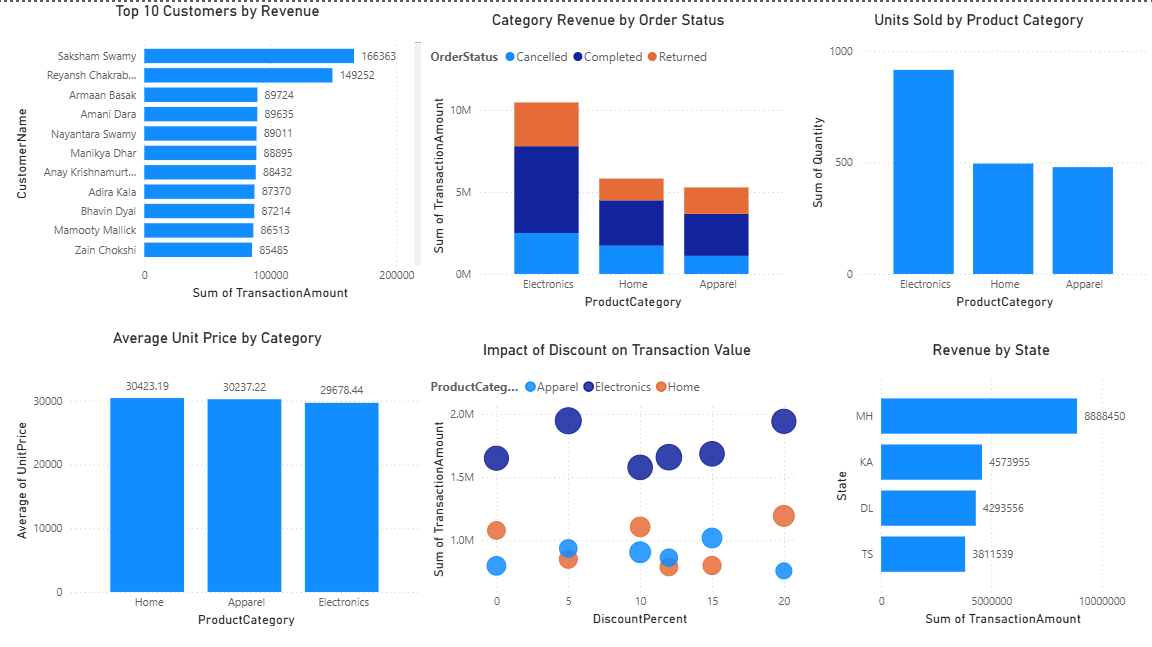

What the dashboard file says about the page in this screenshot:
{"tool":"powerbi","page":{"name":"Customer & Product Analysis","canvas":[1280,720],"ordinal":1},"visuals":[{"type":"clusteredBarChart","title":"Top 10 Customers by Revenue","fields":{"Category":["Sheet_1___Retail_Transactions.CustomerName"],"Y":["Sum(Sheet_1___Retail_Transactions.TransactionAmount)"]},"box":[9.7,0,463.1,335.2],"z":0},{"type":"columnChart","title":"Category Revenue by Order Status","fields":{"Category":["Sheet_1___Retail_Transactions.ProductCategory"],"Y":["Sum(Sheet_1___Retail_Transactions.TransactionAmount)"],"Series":["Sheet_1___Retail_Transactions.OrderStatus"]},"box":[472.8,9.7,404.8,335.2],"z":1},{"type":"clusteredColumnChart","title":"Units Sold by Product Category","fields":{"Category":["Sheet_1___Retail_Transactions.ProductCategory"],"Y":["Sum(Sheet_1___Retail_Transactions.Quantity)"]},"box":[895.4,9.7,385.4,335.2],"z":2},{"type":"columnChart","title":"Average Unit Price by Category","fields":{"Category":["Sheet_1___Retail_Transactions.ProductCategory"],"Y":["Avg(Sheet_1___Retail_Transactions.UnitPrice)"]},"box":[9.7,362.7,463.1,335.2],"z":3},{"type":"scatterChart","title":"Impact of Discount on Transaction Value","fields":{"X":["Sheet_1___Retail_Transactions.DiscountPercent"],"Y":["Sum(Sheet_1___Retail_Transactions.TransactionAmount)"],"Size":["Sum(Sheet_1___Retail_Transactions.Quantity)"],"Series":["Sheet_1___Retail_Transactions.ProductCategory"]},"box":[472.8,377.3,424.2,320.6],"z":4},{"type":"barChart","title":"Revenue by State","fields":{"Category":["Sheet_1___Retail_Transactions.State"],"Y":["Sum(Sheet_1___Retail_Transactions.TransactionAmount)"]},"box":[921.3,377.3,359.5,320.6],"z":5}]}

Visuals, with their boxes in screenshot pixels (x1, y1, x2, y2), scaled from the page's 1280x720 canvas onto the 1152x647 screenshot:
"Top 10 Customers by Revenue" clusteredBarChart: left=9, top=0, right=426, bottom=301
"Category Revenue by Order Status" columnChart: left=426, top=9, right=790, bottom=310
"Units Sold by Product Category" clusteredColumnChart: left=806, top=9, right=1151, bottom=310
"Average Unit Price by Category" columnChart: left=9, top=326, right=426, bottom=627
"Impact of Discount on Transaction Value" scatterChart: left=426, top=339, right=807, bottom=627
"Revenue by State" barChart: left=829, top=339, right=1151, bottom=627
